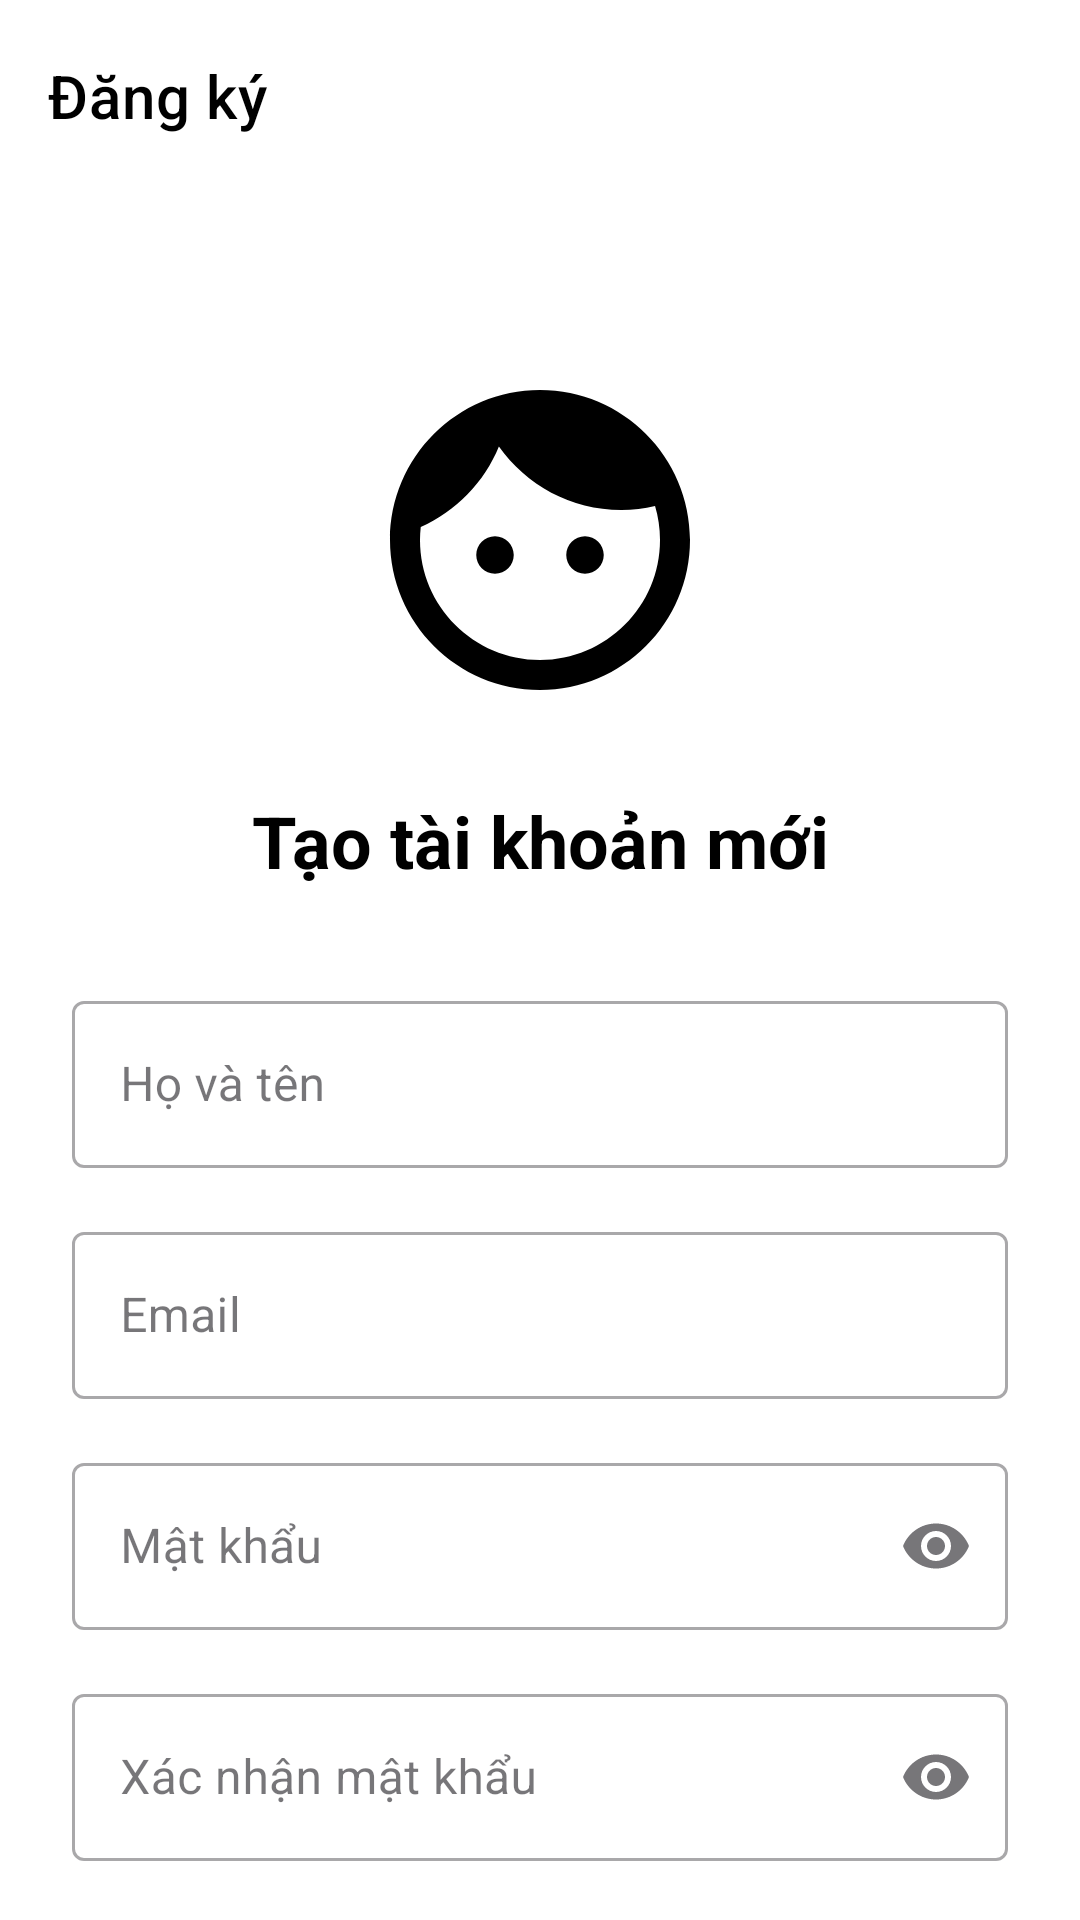

Icons on this 1080*1920 Android screen, each with its box as {"x1": x1, "y1": y1, "x2": x2, "y2": y2}:
face: {"x1": 390, "y1": 390, "x2": 690, "y2": 690}
